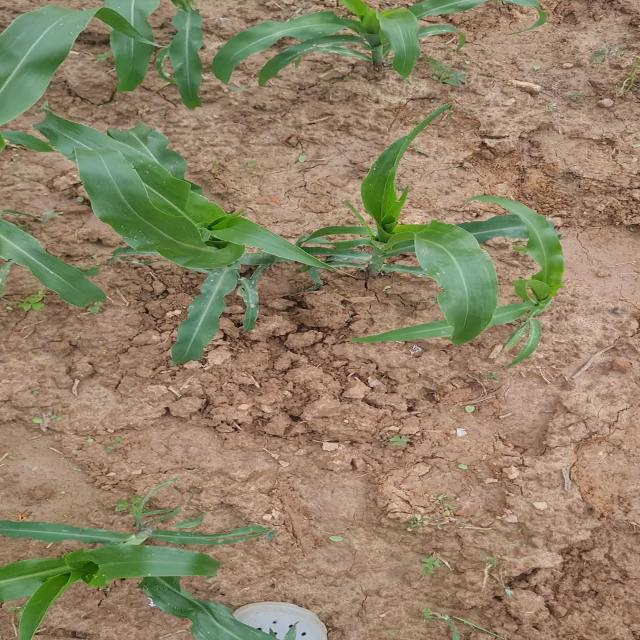maize: (35, 137, 566, 350), (0, 0, 518, 98), (21, 518, 213, 634)
